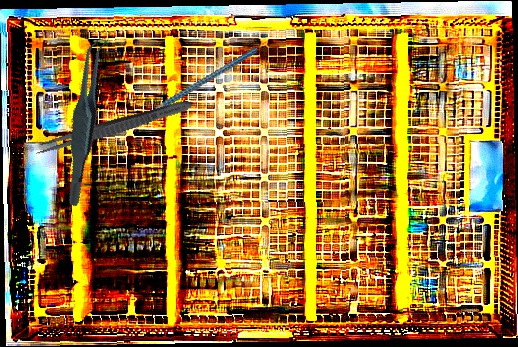Chopper: (122, 47, 269, 133)
Dressing Forceps: (33, 95, 194, 160)
Tissue Forceps: (33, 34, 138, 208)
